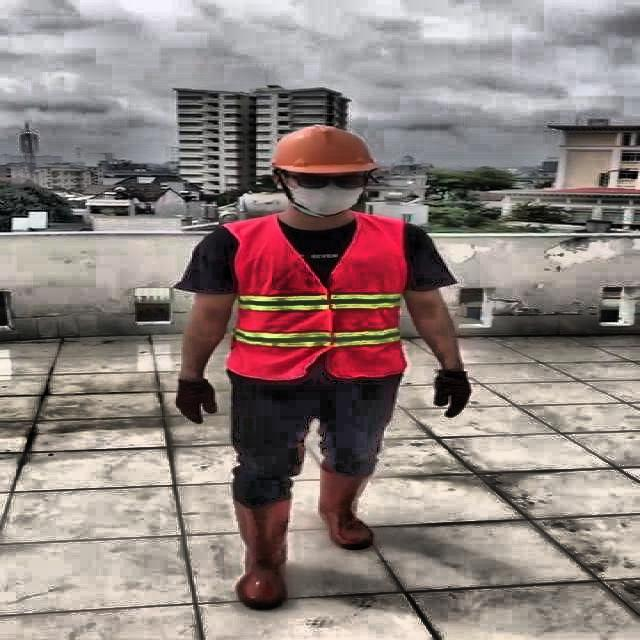safety_helmet: (272, 123, 377, 176)
safety_jacket: (231, 216, 404, 380)
